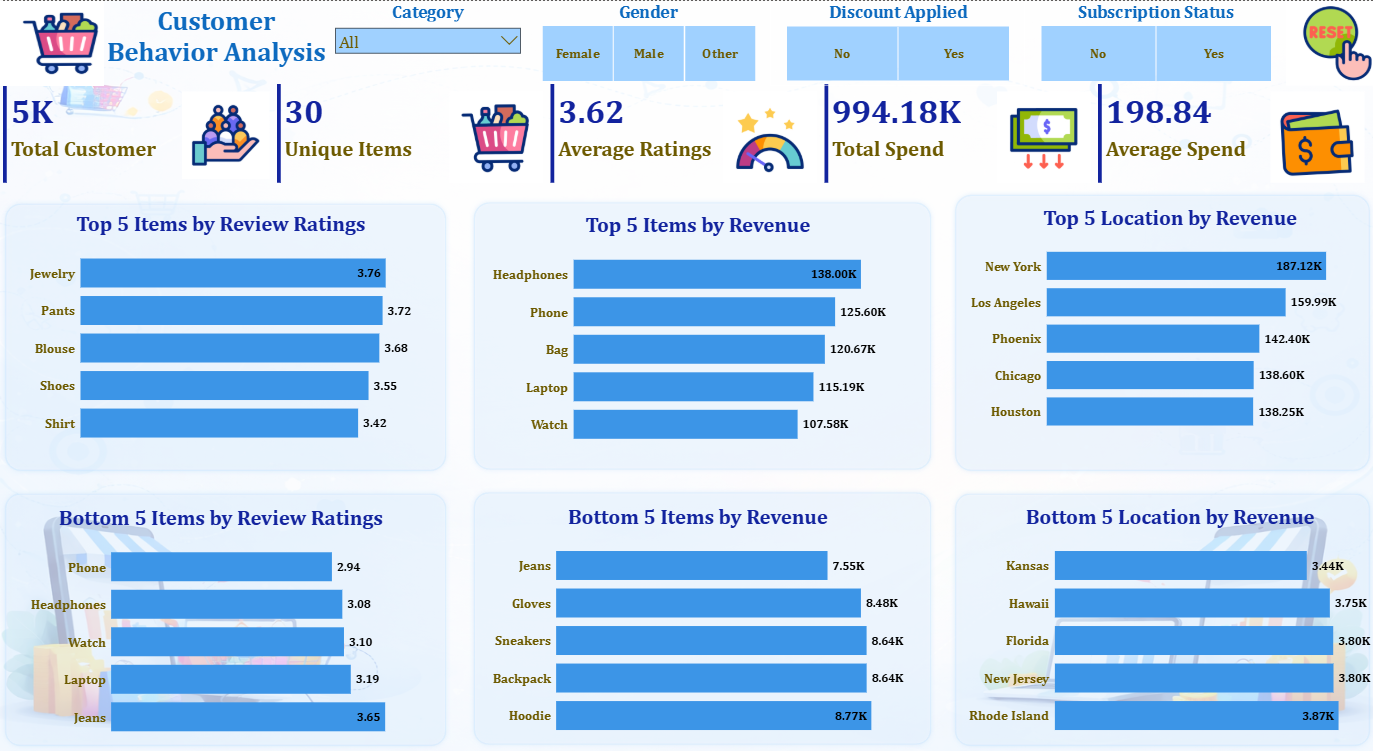

What the dashboard file says about the page in this screenshot:
{"tool":"powerbi","page":{"name":"Best Worst","canvas":[2200,1200],"ordinal":1},"visuals":[{"type":"cardVisual","fields":{"Data":["customer_behaviour customer_behaviour_analysis.Total Customer","customer_behaviour customer_behaviour_analysis.Unique Items","customer_behaviour customer_behaviour_analysis.Average Ratings","customer_behaviour customer_behaviour_analysis.Total Spend","customer_behaviour customer_behaviour_analysis.Average Spend"]},"box":[0,128,2200,168],"z":0},{"type":"group","id":"g1","title":"Group 1","box":[0,315,721.7,445],"z":1000},{"type":"shape","box":[0,315,722,444],"z":1000,"group":"g1"},{"type":"group","id":"g2","title":"Group 2","box":[750,314.8,748,444],"z":2000},{"type":"shape","box":[0,780,722,420],"z":2000,"group":"g4"},{"type":"group","id":"g3","title":"Group 3","box":[1520,302,680,458],"z":3000},{"type":"shape","box":[750,314.8,748,444],"z":3000,"group":"g2"},{"type":"shape","box":[750,778,748,420],"z":4000,"group":"g5"},{"type":"group","id":"g4","title":"Group 4","box":[0,780,722,420],"z":4000},{"type":"shape","box":[1520,302,680,458],"z":5000,"group":"g3"},{"type":"group","id":"g5","title":"Group 5","box":[750,778,748,420],"z":5000},{"type":"group","id":"g6","title":"Group 6","box":[1520,780,680,420],"z":6000},{"type":"shape","box":[1520,780,680,420],"z":6000,"group":"g6"},{"type":"textbox","box":[166,0,360,136],"z":6001},{"type":"barChart","title":"Top 5 Items by Review Ratings","fields":{"Category":["customer_behaviour customer_behaviour_analysis.item_purchased"],"Y":["Avg(customer_behaviour customer_behaviour_analysis.review_rating)"]},"box":[40,335.7,626.7,393.3],"z":6001,"group":"g1"},{"type":"actionButton","box":[0,0,166,136],"z":6002},{"type":"barChart","title":"Bottom 5 Items by Review Ratings","fields":{"Category":["customer_behaviour customer_behaviour_analysis.item_purchased"],"Y":["Avg(customer_behaviour customer_behaviour_analysis.review_rating)"]},"box":[40,806.7,626.7,393.3],"z":6002,"group":"g4"},{"type":"slicer","title":"Category","fields":{"Values":["customer_behaviour customer_behaviour_analysis.category"]},"box":[525,0,317.5,135],"z":6003},{"type":"barChart","title":"Top 5 Items by Revenue","fields":{"Category":["customer_behaviour customer_behaviour_analysis.item_purchased"],"Y":["Sum(customer_behaviour customer_behaviour_analysis.purchase_amount)"]},"box":[780,339.5,673.3,393.3],"z":6003,"group":"g2"},{"type":"slicer","title":"Gender","fields":{"Values":["customer_behaviour customer_behaviour_analysis.gender"]},"box":[842.5,0,390,135],"z":6004},{"type":"barChart","title":"Bottom 5 Items by Revenue","fields":{"Category":["customer_behaviour customer_behaviour_analysis.item_purchased"],"Y":["Sum(customer_behaviour customer_behaviour_analysis.purchase_amount)"]},"box":[780,803.3,673.3,393.3],"z":6004,"group":"g5"},{"type":"slicer","title":"Subscription Status","fields":{"Values":["customer_behaviour customer_behaviour_analysis.subscription_status"]},"box":[1640,0,417.5,135],"z":6005},{"type":"barChart","title":"Top 5 Location by Revenue","fields":{"Y":["Sum(customer_behaviour customer_behaviour_analysis.purchase_amount)"],"Category":["customer_behaviour customer_behaviour_analysis.location"]},"box":[1543.3,326.7,656.7,383.3],"z":6005,"group":"g3"},{"type":"slicer","title":"Discount Applied","fields":{"Values":["customer_behaviour customer_behaviour_analysis.discount_applied"]},"box":[1232.5,0,407.5,135],"z":6006},{"type":"barChart","title":"Bottom 5 Location by Revenue","fields":{"Y":["Sum(customer_behaviour customer_behaviour_analysis.purchase_amount)"],"Category":["customer_behaviour customer_behaviour_analysis.location"]},"box":[1543.3,803.3,656.7,393.3],"z":6006,"group":"g6"},{"type":"actionButton","box":[2057.5,0,142.5,135],"z":6007}]}

Visuals, with their boxes in screenshot pixels (x1, y1, x2, y2), scaled from the page's 2200x1200 canvas onto the 1373x751 screenshot:
cardVisual - customer_behaviour customer_behaviour_analysis.Total Customer x customer_behaviour customer_behaviour_analysis.Unique Items: 0/80/1372/185
"Group 1" group: 0/197/450/476
shape: 0/197/451/475
"Group 2" group: 468/197/935/475
shape: 0/488/451/750
"Group 3" group: 949/189/1372/476
shape: 468/197/935/475
shape: 468/487/935/750
"Group 4" group: 0/488/451/750
shape: 949/189/1372/476
"Group 5" group: 468/487/935/750
"Group 6" group: 949/488/1372/750
shape: 949/488/1372/750
textbox: 104/0/328/85
"Top 5 Items by Review Ratings" barChart: 25/210/416/456
actionButton: 0/0/104/85
"Bottom 5 Items by Review Ratings" barChart: 25/505/416/750
"Category" slicer: 328/0/526/84
"Top 5 Items by Revenue" barChart: 487/212/907/459
"Gender" slicer: 526/0/769/84
"Bottom 5 Items by Revenue" barChart: 487/503/907/749
"Subscription Status" slicer: 1024/0/1284/84
"Top 5 Location by Revenue" barChart: 963/204/1372/444
"Discount Applied" slicer: 769/0/1024/84
"Bottom 5 Location by Revenue" barChart: 963/503/1372/749
actionButton: 1284/0/1372/84
